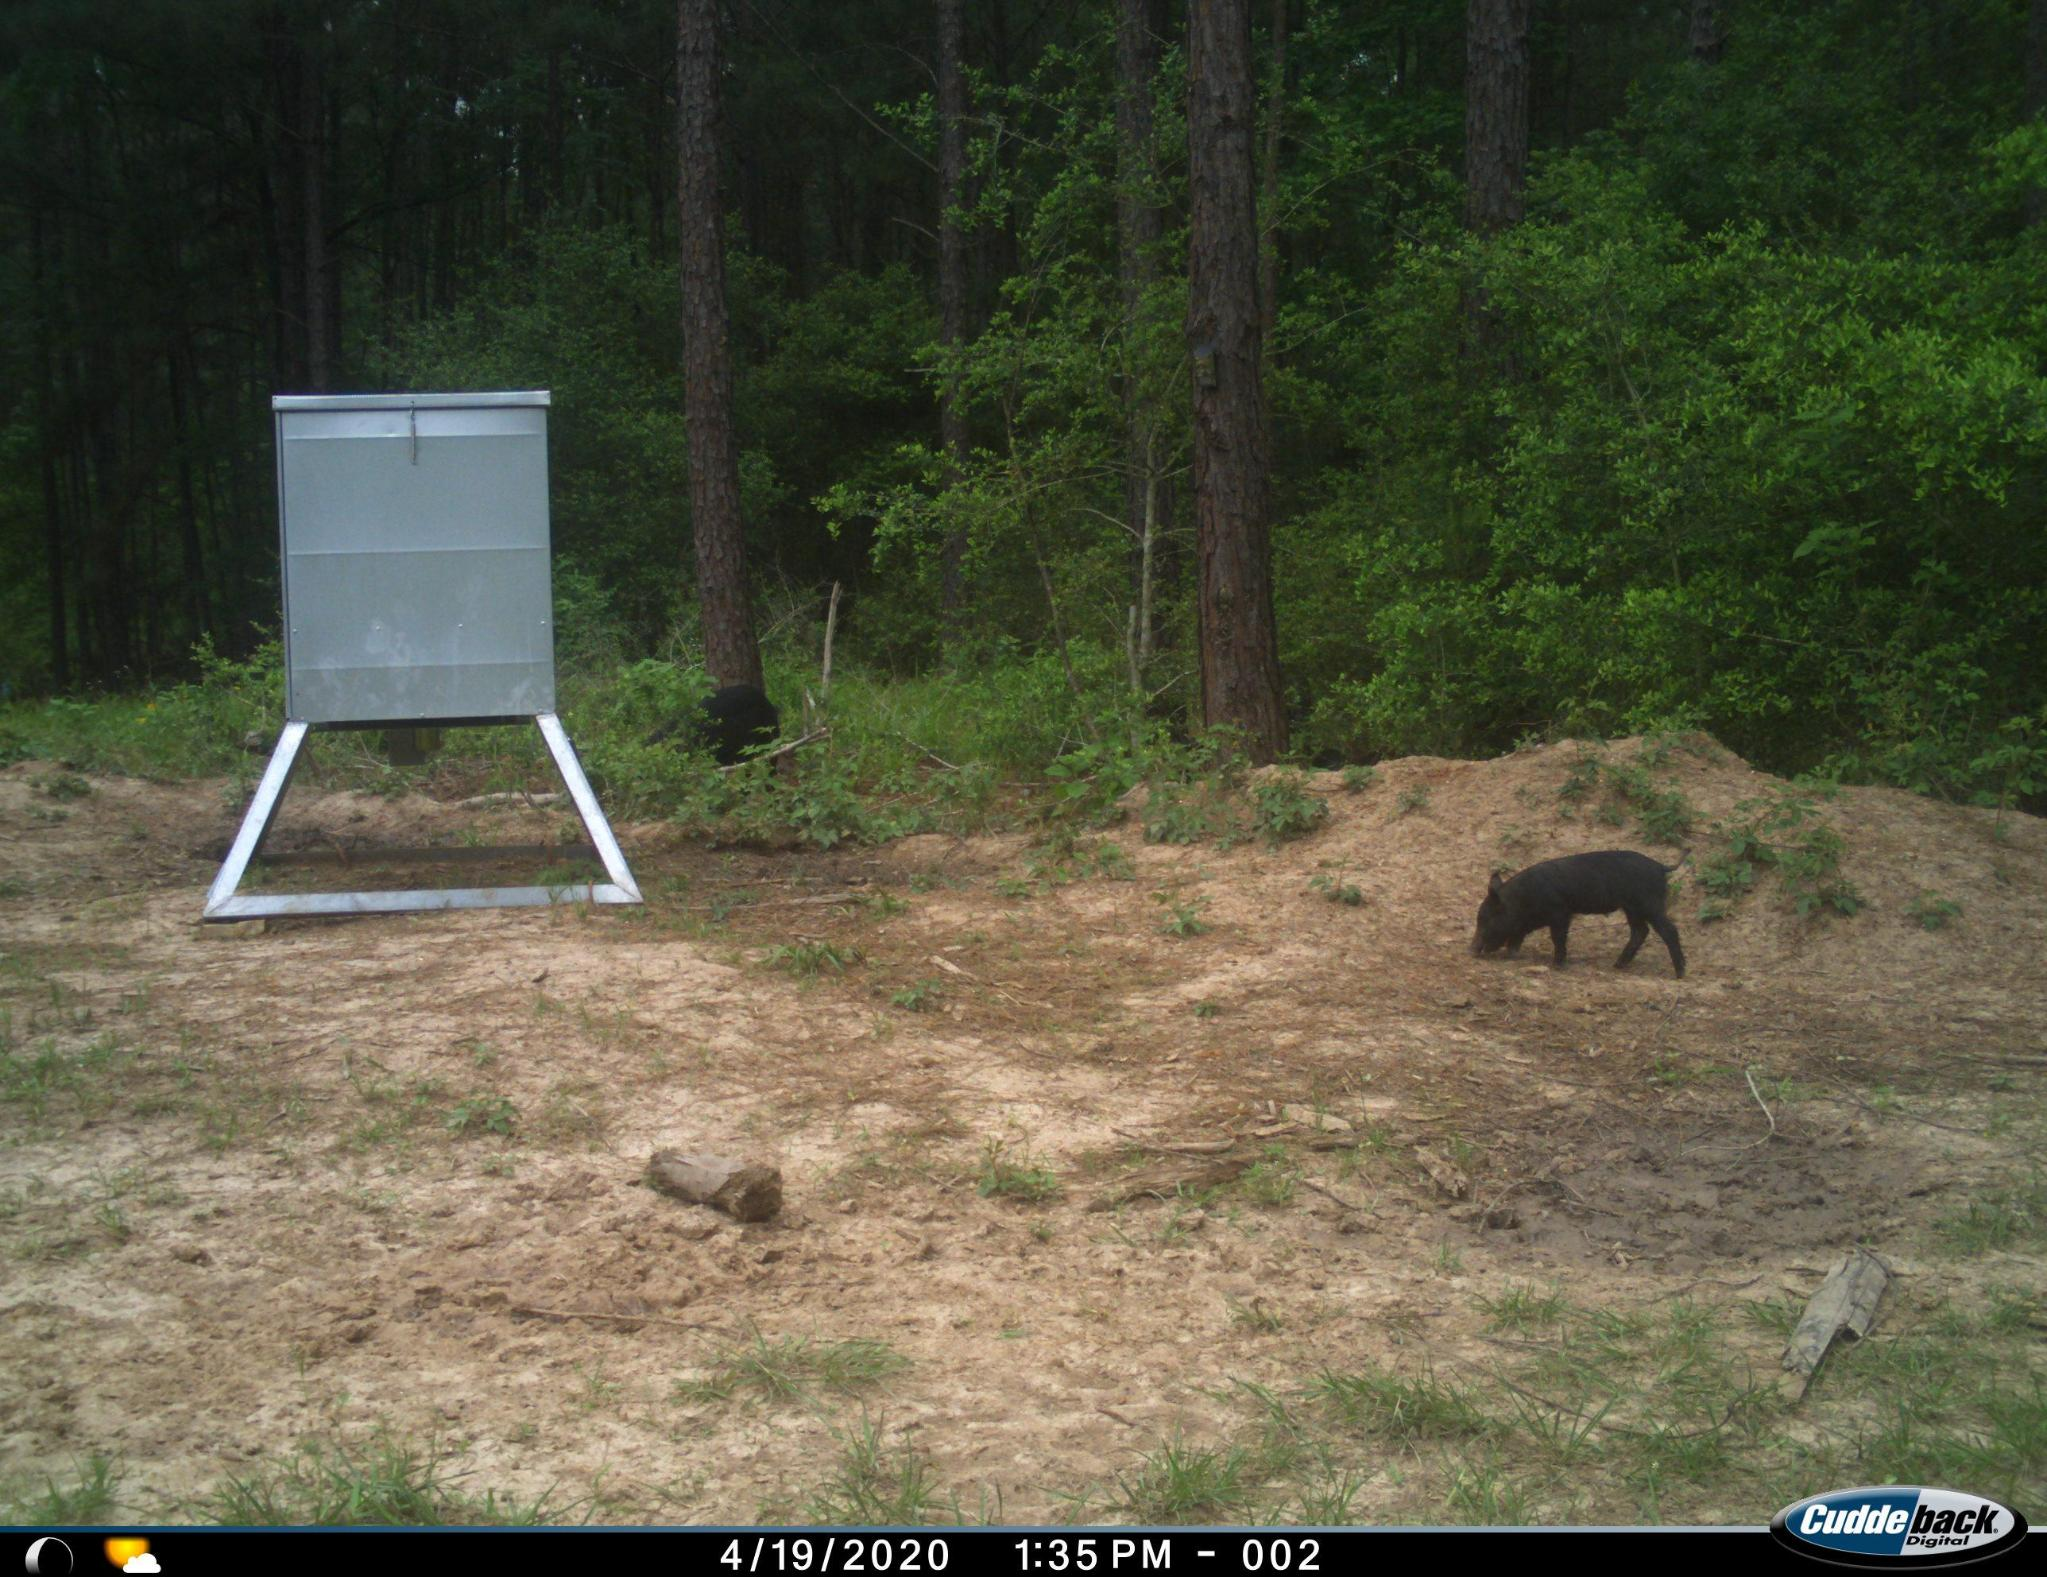Hog: (1459, 835, 1694, 987)
